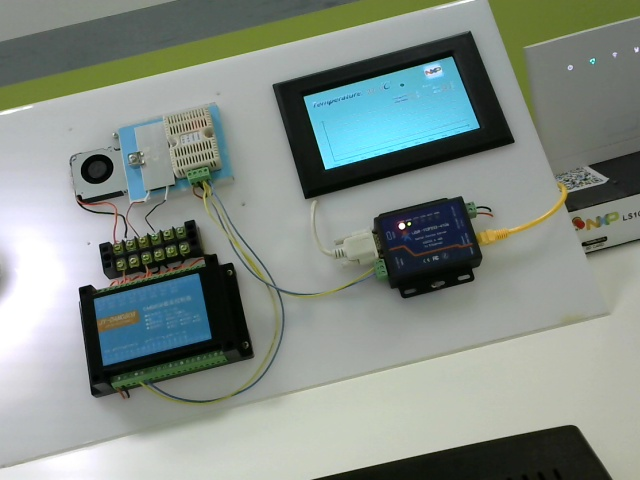fan: (64, 143, 129, 218)
modbus bridge: (364, 194, 500, 307)
relay: (77, 279, 262, 395)
termperature: (162, 99, 221, 179)
